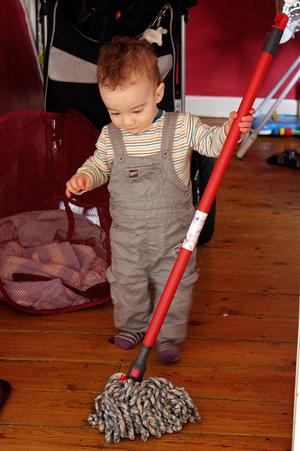person: (64, 35, 258, 368)
